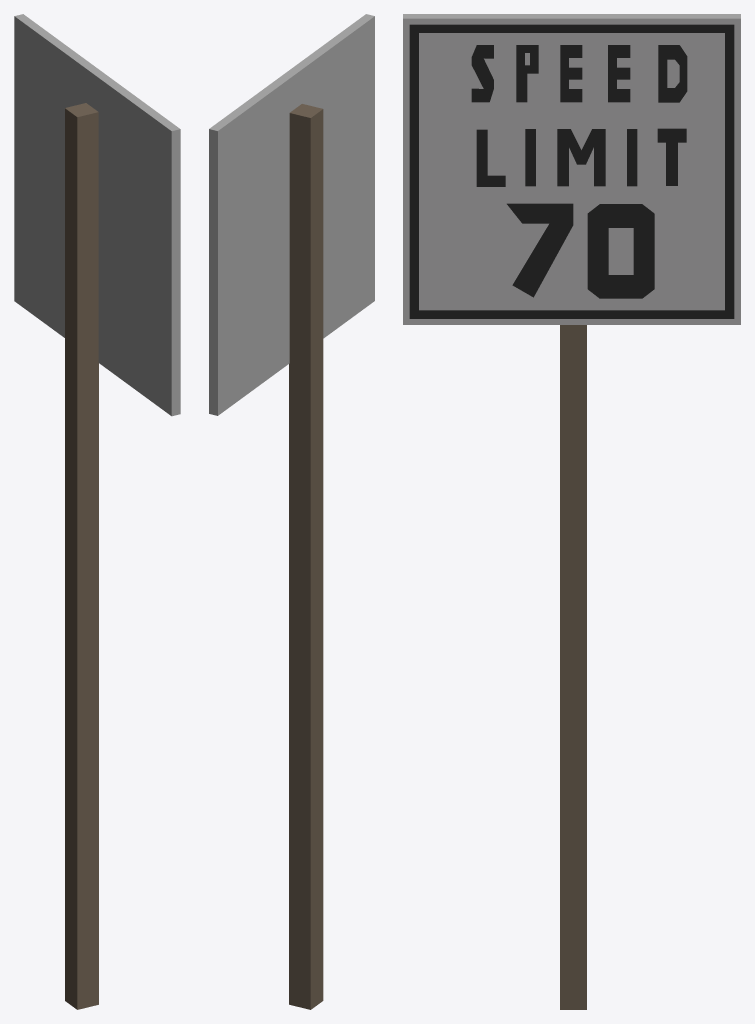
The model's file is SM_speed_limit_75.gltf.
3 views of the same model, side by side, from view 1: azimuth 30°, elevation 25°; view 2: azimuth 150°, elevation 25°; view 3: azimuth 270°, elevation 25° (orthographic). The views are drawn at different scales.
Visible parts, largest first — view 1: SM_speed_limit_75; view 2: SM_speed_limit_75; view 3: SM_speed_limit_75.
Part boxes in pixels (box(x1,y1,x2,y2)): SM_speed_limit_75: box(14, 14, 180, 1009); SM_speed_limit_75: box(209, 14, 374, 1009); SM_speed_limit_75: box(403, 14, 740, 1009).
Bounding box in the file's own units: 0.0971 × 2.73 × 0.841.
Materials: 1 (1 with a texture image).
